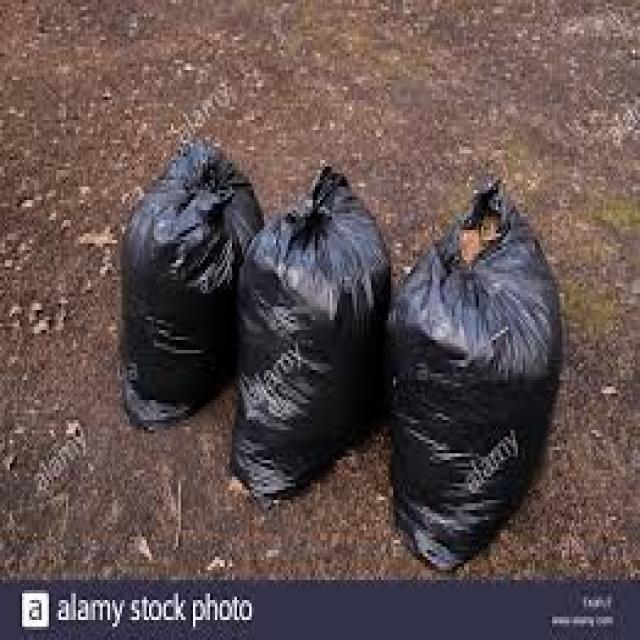plastic_bag: (397, 188, 563, 528), (240, 181, 392, 468), (124, 154, 263, 408)
